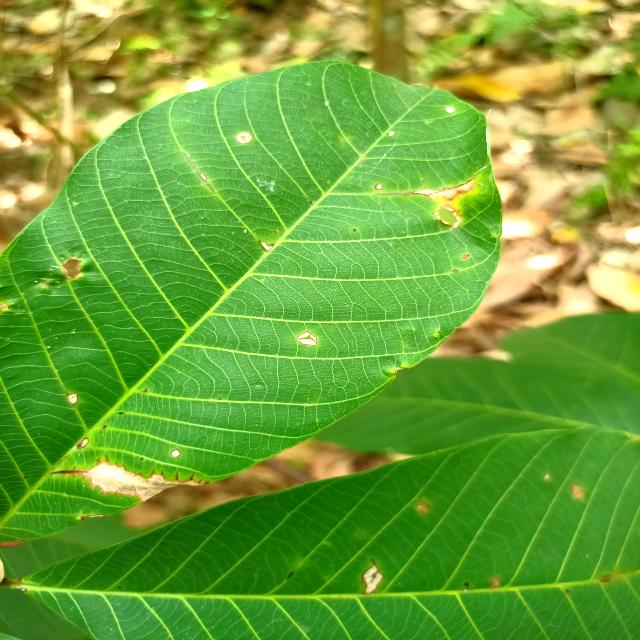Colletotrichum: (171, 449, 181, 457), (387, 132, 394, 137), (19, 588, 26, 592), (353, 229, 356, 232), (24, 476, 28, 478), (285, 260, 287, 262)
Corynespora: (379, 179, 474, 199), (183, 152, 216, 194), (50, 467, 89, 478), (188, 472, 196, 481), (172, 472, 178, 481)
Leaf-Blight: (84, 461, 202, 501), (429, 180, 473, 200), (363, 564, 383, 594), (298, 332, 316, 345), (237, 133, 252, 144), (260, 242, 272, 252), (70, 393, 78, 404), (81, 439, 89, 446)
